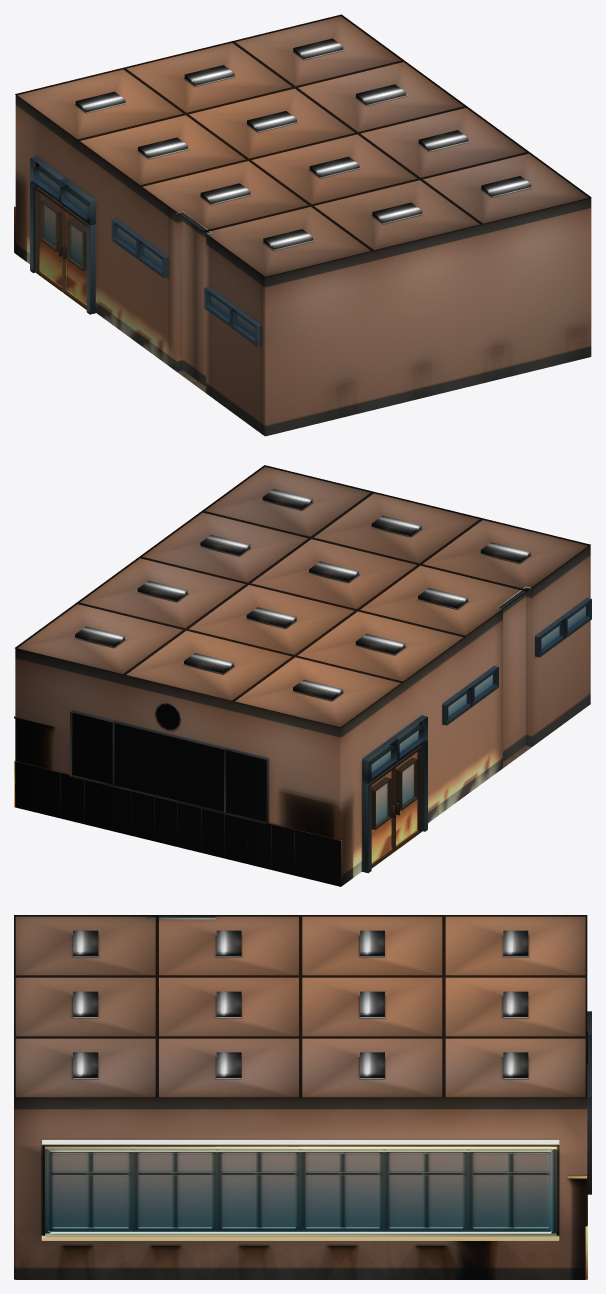
Rendered from Classroom.glb.
3 renders of one model, top to bottom at view 1: azimuth 30°, elevation 25°; view 2: azimuth 150°, elevation 25°; view 3: azimuth 270°, elevation 25°, orthographic. The views are drawn at different scales.
Visible parts, largest first — view 1: Classroom; view 2: Classroom; view 3: Classroom, glass.
Part boxes in pixels (x1,y1,x2,y2): Classroom: (14, 14, 591, 436); Classroom: (14, 465, 591, 886); Classroom: (14, 915, 591, 1279); glass: (45, 1149, 556, 1233).
Size of the model in its own units: 9.38 by 4.28 by 11.99.
2 materials, 1 textured.
